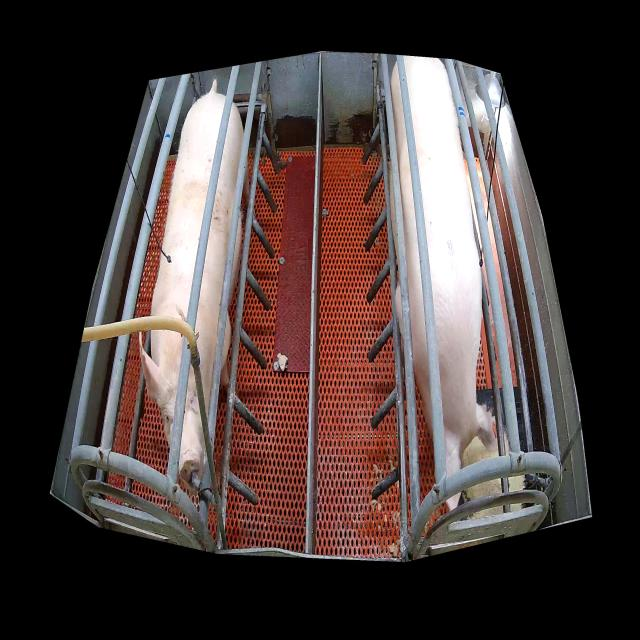pig: (391, 55, 498, 510), (139, 91, 250, 489)
